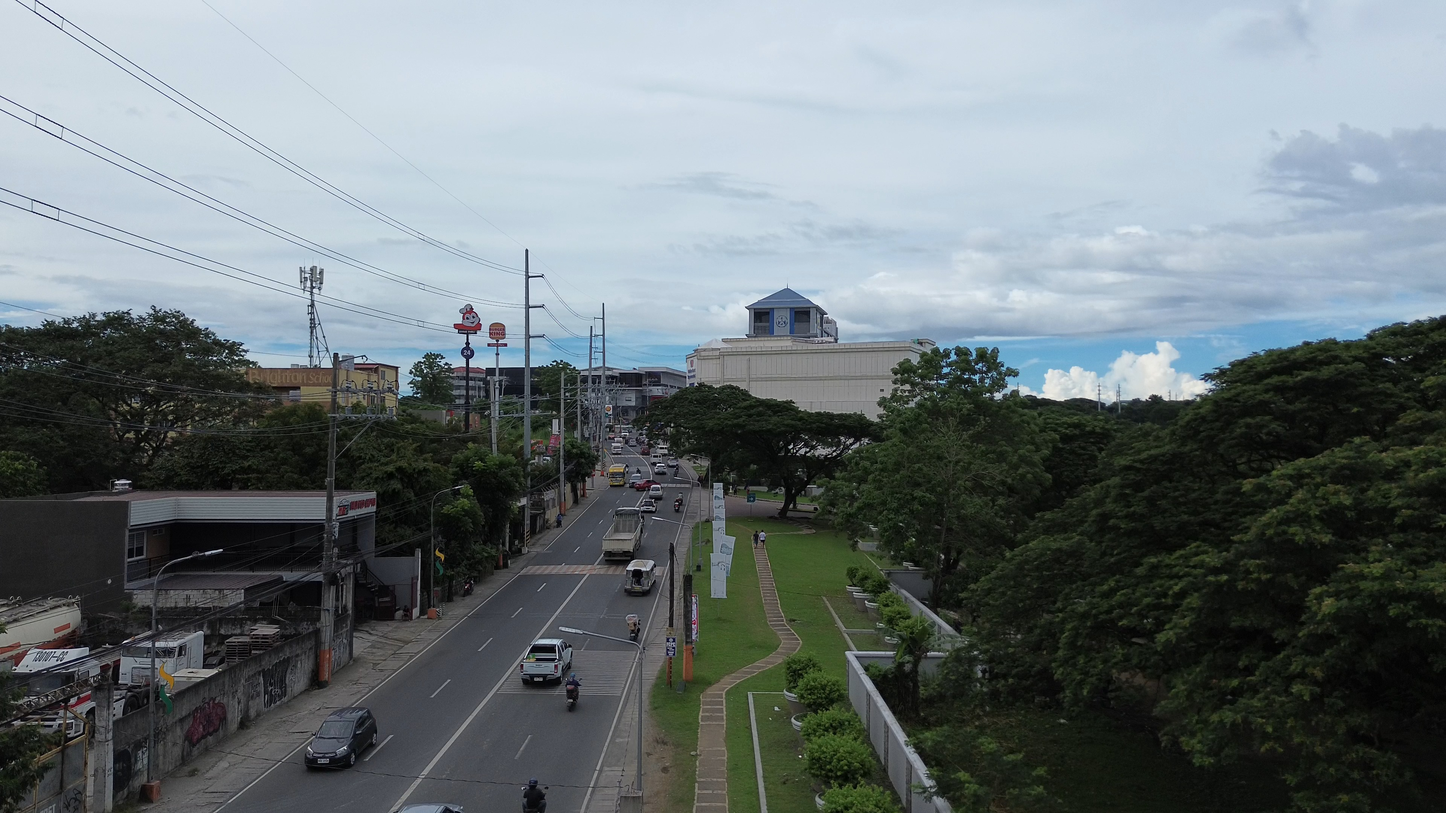car: (305, 706, 376, 767), (396, 803, 463, 813), (633, 478, 660, 490), (628, 473, 643, 488), (654, 461, 669, 475), (667, 458, 679, 468)
motorcycle: (565, 684, 580, 711), (626, 614, 640, 641), (523, 797, 546, 813), (462, 579, 474, 597), (673, 498, 683, 512)
vehicle: (0, 598, 82, 669), (14, 648, 101, 696), (520, 638, 572, 683), (602, 508, 642, 561), (156, 630, 203, 675), (624, 559, 656, 595), (565, 674, 580, 710), (633, 475, 660, 491), (608, 464, 627, 486), (638, 498, 656, 513), (654, 461, 670, 475), (648, 484, 662, 499), (629, 472, 642, 488), (638, 443, 650, 457), (673, 496, 683, 512), (610, 443, 623, 455), (667, 457, 679, 468), (625, 438, 636, 447)
